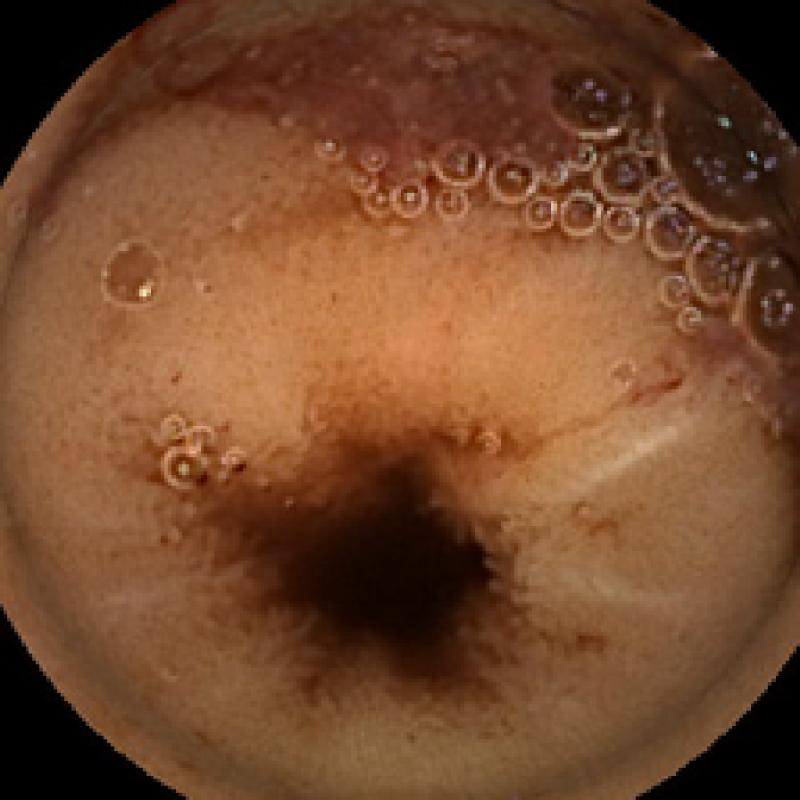bleeding: (147, 0, 607, 186)
